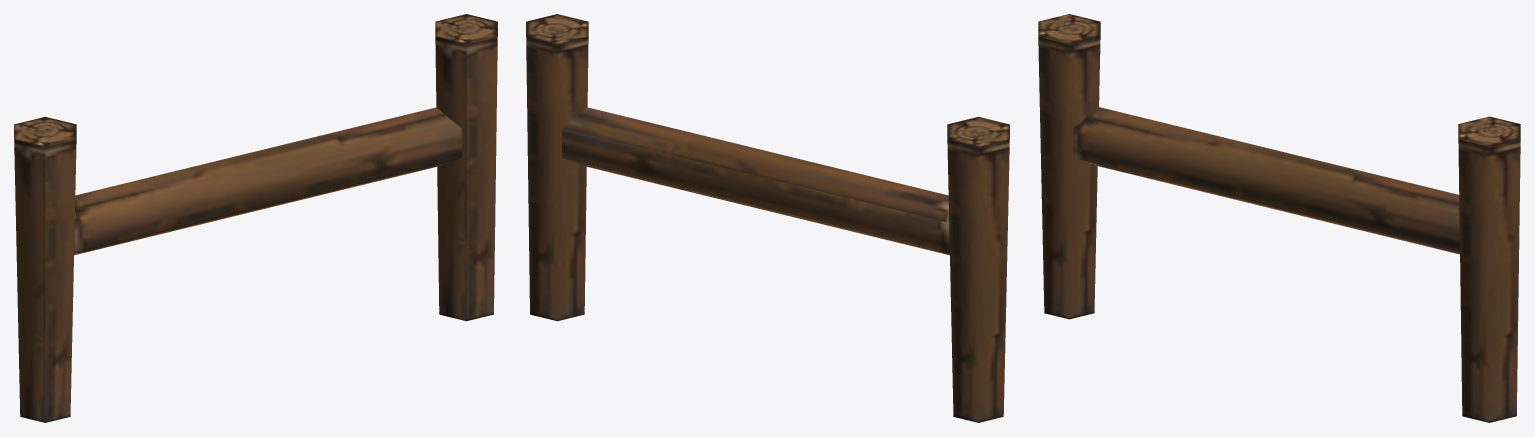
File: 2_YiZhan_ZaWu_MuLan_01.FBX
The picture shows the model from 3 angles, left to right: view 1: azimuth 30°, elevation 25°; view 2: azimuth 150°, elevation 25°; view 3: azimuth 330°, elevation 25°; orthographic projection.
Parts seen in each view (by area): view 1: 2_YiZhan_ZaWu_MuLan_01; view 2: 2_YiZhan_ZaWu_MuLan_01; view 3: 2_YiZhan_ZaWu_MuLan_01.
Boxes of the visible parts, box(x1,y1,x2,y2) form: 2_YiZhan_ZaWu_MuLan_01: box(14, 14, 497, 422); 2_YiZhan_ZaWu_MuLan_01: box(526, 14, 1009, 422); 2_YiZhan_ZaWu_MuLan_01: box(1038, 14, 1520, 422).
Bounding box in the file's own units: 369 × 203 × 41.3.
Materials: 1 (1 with a texture image).
